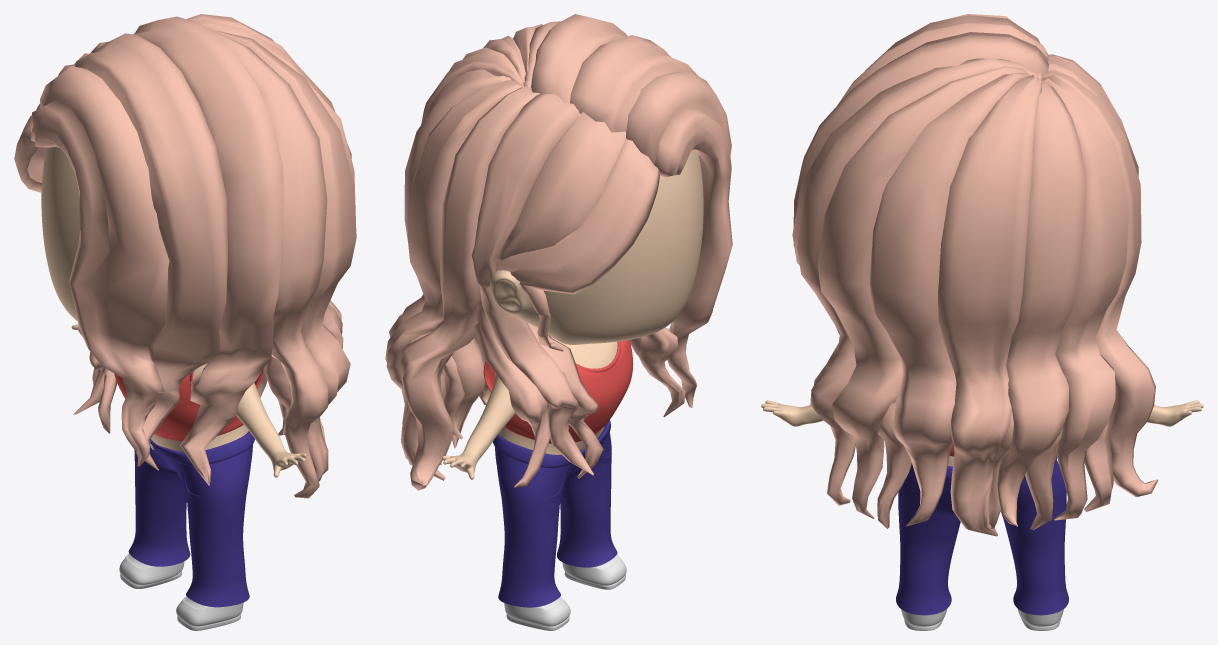
Rendered from 通用模型（zyh）.fbx.
3 renders of one model, left to right at view 1: azimuth 30°, elevation 25°; view 2: azimuth 150°, elevation 25°; view 3: azimuth 270°, elevation 25°, orthographic. The views are drawn at different scales.
Parts seen in each view (by area): view 1: 头发, 牛仔裤, body, 鞋子, 上衣; view 2: 头发, body, 牛仔裤, 上衣, 鞋子; view 3: 头发, 牛仔裤, body, 鞋子.
Part boxes in pixels (x1,y1,x2,y2): 头发: [14, 14, 356, 498]; 牛仔裤: [128, 431, 254, 607]; body: [41, 147, 306, 477]; 鞋子: [119, 553, 243, 630]; 上衣: [114, 368, 264, 441]; 头发: [385, 14, 732, 490]; body: [442, 96, 703, 479]; 牛仔裤: [493, 420, 617, 607]; 上衣: [483, 340, 633, 443]; 鞋子: [504, 554, 626, 630]; 头发: [792, 14, 1158, 536]; 牛仔裤: [896, 456, 1068, 615]; body: [761, 58, 1203, 466]; 鞋子: [901, 609, 1063, 630].
Size of the model in its own units: 1300 by 2465 by 1701.
